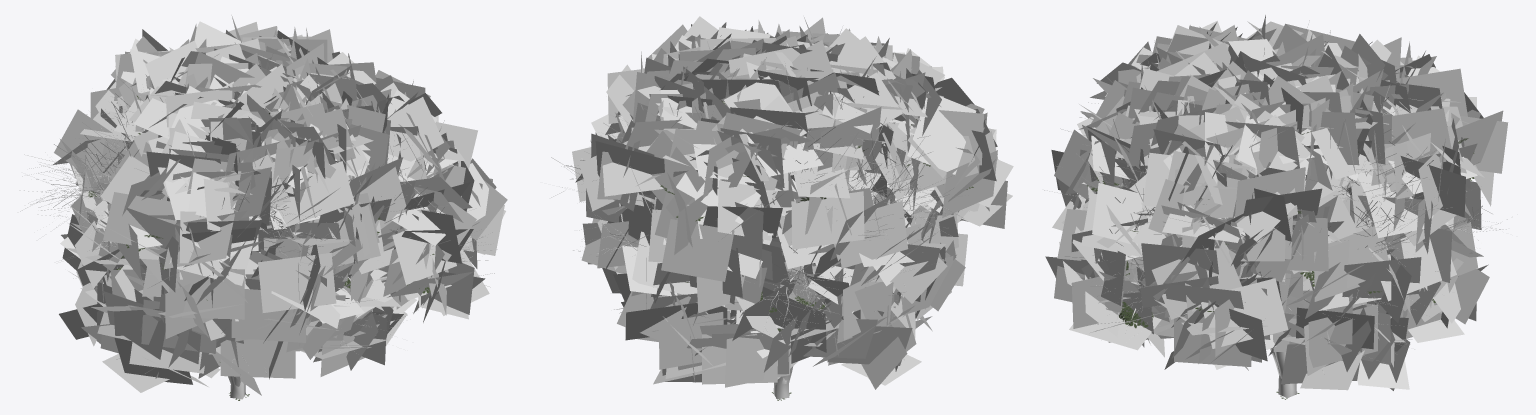
Rendered from tree-transformed.glb.
The picture shows the model from 3 angles, left to right: view 1: azimuth 30°, elevation 25°; view 2: azimuth 150°, elevation 25°; view 3: azimuth 270°, elevation 25°; orthographic projection. The views are drawn at different scales.
Visible parts, largest first — view 1: leaves, leaves.001, tree; view 2: leaves, leaves.001, tree; view 3: leaves, leaves.001, tree, Tree_Leaves.
Part boxes in pixels (bbox=[...]): leaves: bbox=[53, 15, 507, 395]; leaves.001: bbox=[19, 43, 497, 359]; tree: bbox=[36, 77, 474, 398]; leaves: bbox=[572, 16, 1013, 389]; leaves.001: bbox=[551, 31, 968, 359]; tree: bbox=[559, 108, 946, 399]; leaves: bbox=[1045, 15, 1508, 390]; leaves.001: bbox=[1044, 20, 1507, 353]; tree: bbox=[1066, 113, 1495, 397]; Tree_Leaves: bbox=[1087, 113, 1474, 399].
Bounding box in the file's own units: 13.57 × 10.46 × 13.02.
Materials: 3 (2 with a texture image).
